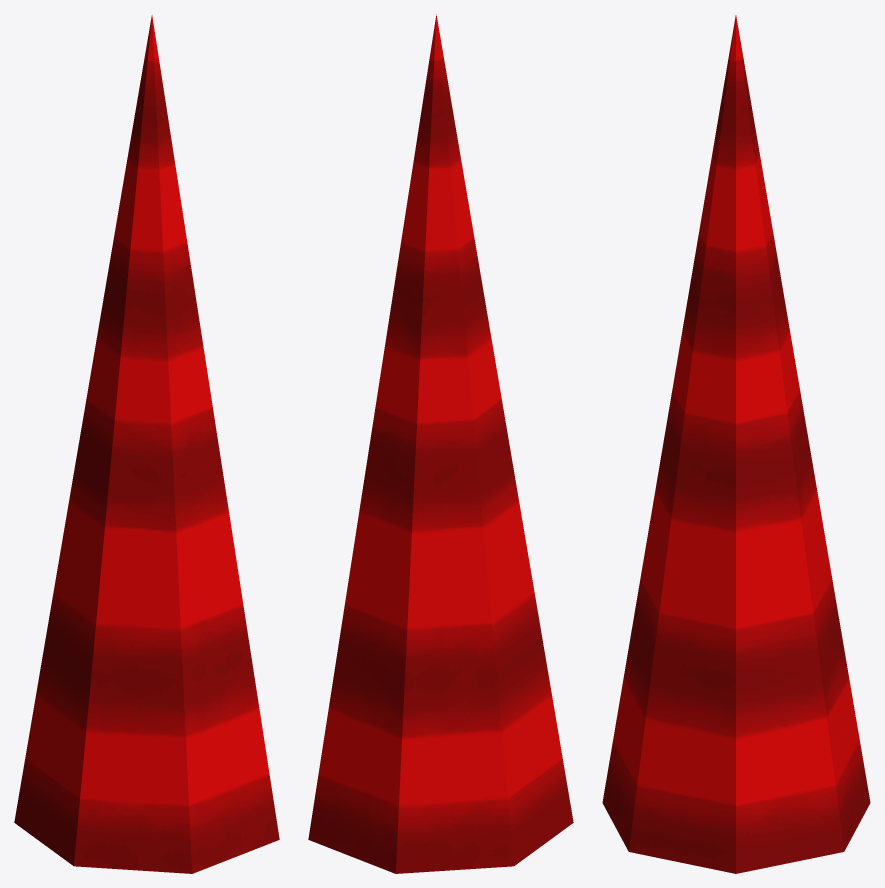
File: Beam.glb
3 renders of one model, left to right at view 1: azimuth 30°, elevation 25°; view 2: azimuth 150°, elevation 25°; view 3: azimuth 270°, elevation 25°, orthographic.
Parts seen in each view (by area): view 1: Beam; view 2: Beam; view 3: Beam.
Boxes of the visible parts, x1,y1,x2,y2 form: Beam: (14,15,279,873); Beam: (308,14,573,873); Beam: (602,15,870,873).
Size of the model in its own units: 279 by 946 by 287.
1 material, 1 textured.
